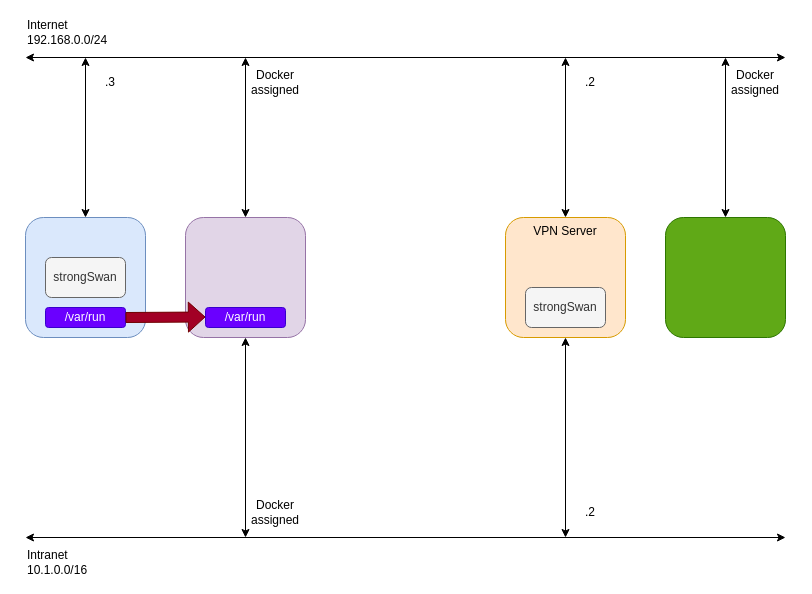
Image size: 812x594. Some labels were removed from this diagram. Here are the shapes that lost their labels. From the top down, the box of each, then its label:
(24, 216, 146, 338): VPN Client
(184, 216, 306, 338): OPI Security API Server
(664, 216, 786, 338): OPI Security API Client
